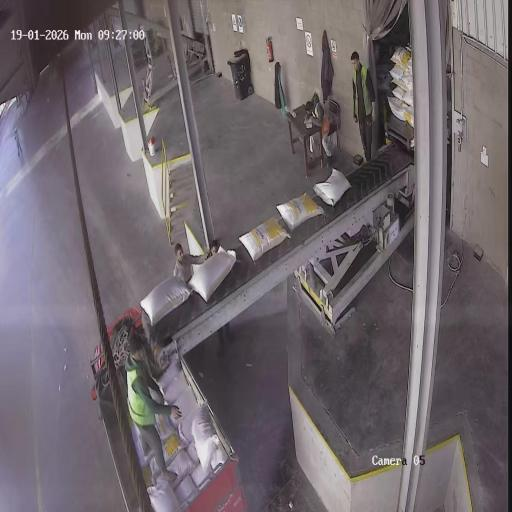c-belt-sack-count: (140, 276, 191, 327), (190, 250, 236, 302), (239, 217, 290, 262), (276, 193, 323, 230), (314, 168, 351, 207)
